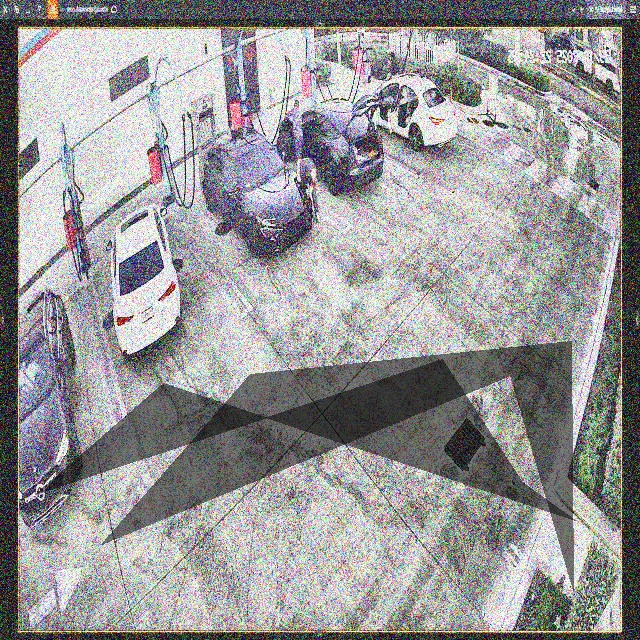Car: (199, 126, 316, 258), (111, 204, 185, 363), (278, 95, 384, 198), (355, 77, 460, 148)
